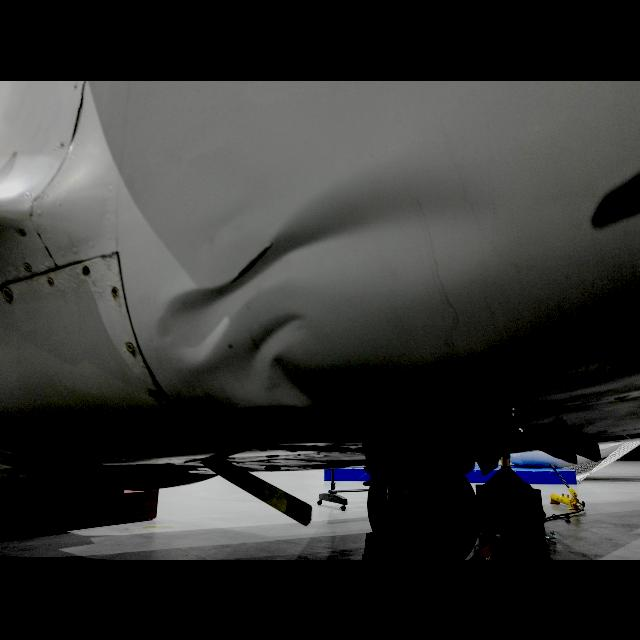dent: (158, 152, 498, 362), (220, 352, 544, 442), (201, 308, 317, 399)
